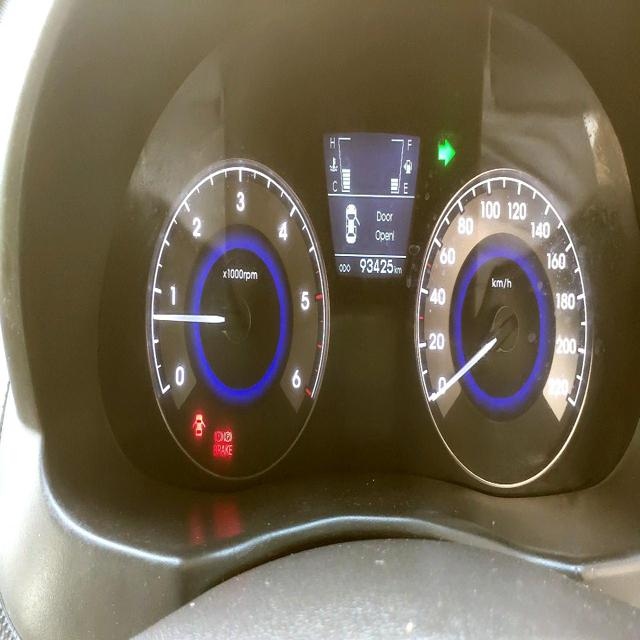odometer: (354, 254, 395, 279)
